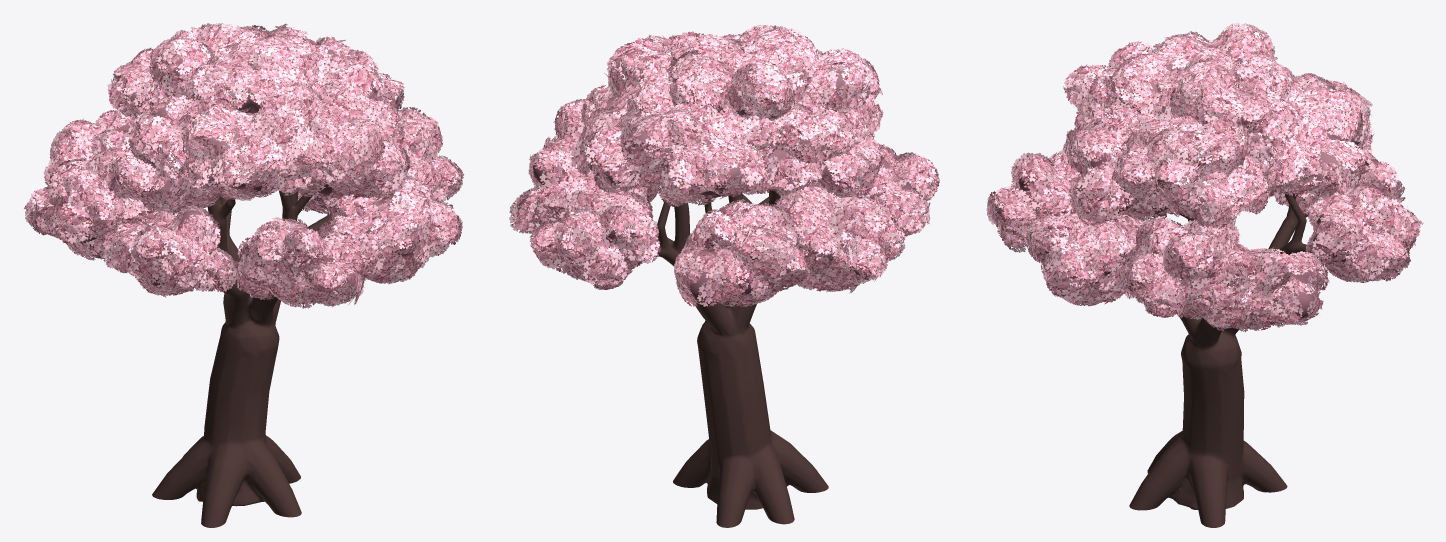
The model's file is sakura.glb.
3 renders of one model, left to right at view 1: azimuth 30°, elevation 25°; view 2: azimuth 150°, elevation 25°; view 3: azimuth 270°, elevation 25°, orthographic.
Parts seen in each view (by area): view 1: sakura_cards, sakura_wood, sakura_canopy; view 2: sakura_cards, sakura_wood, sakura_canopy; view 3: sakura_cards, sakura_wood, sakura_canopy.
Part boxes in pixels (x1,y1,x2,y2): sakura_cards: [24, 23, 464, 308]; sakura_wood: [152, 191, 332, 527]; sakura_canopy: [36, 29, 452, 303]; sakura_cards: [509, 24, 939, 306]; sakura_wood: [654, 190, 828, 527]; sakura_canopy: [517, 33, 916, 300]; sakura_cards: [986, 22, 1423, 332]; sakura_wood: [1129, 192, 1312, 527]; sakura_canopy: [992, 31, 1412, 318].
Size of the model in its own units: 2.68 by 3.04 by 2.73.
3 materials, 1 textured.
